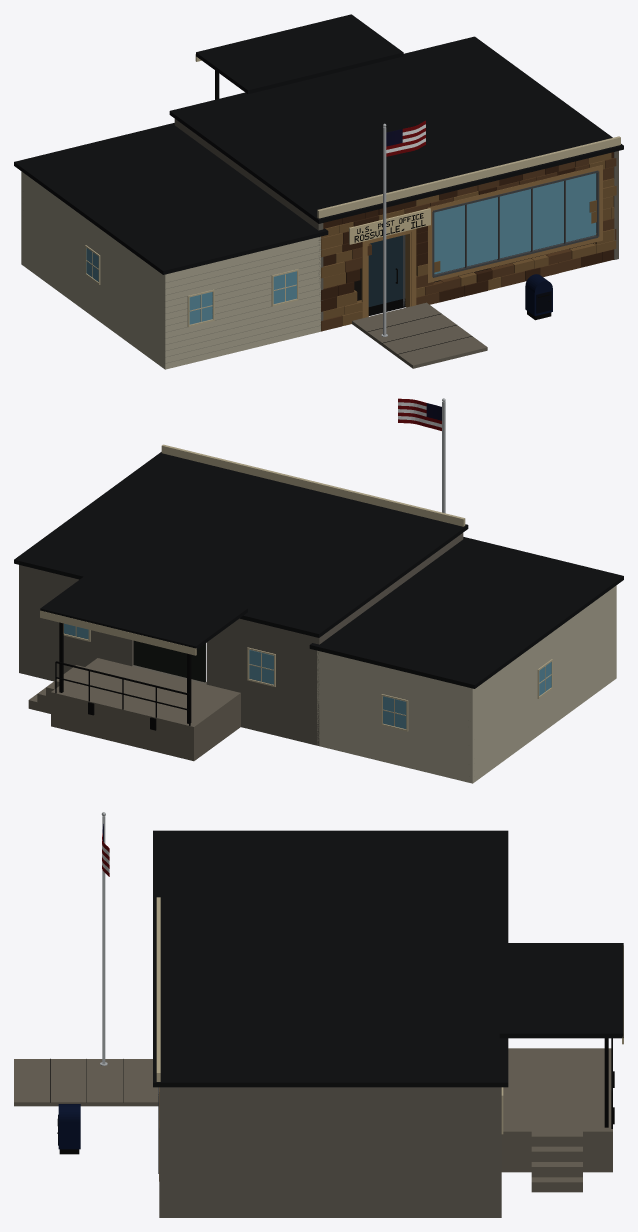
The model's file is RossvillePostOffice.obj.
The picture shows the model from 3 angles, top to bottom: view 1: azimuth 30°, elevation 25°; view 2: azimuth 150°, elevation 25°; view 3: azimuth 270°, elevation 25°; orthographic projection. The views are drawn at different scales.
Visible parts, largest first — view 1: RossvillePostOffice; view 2: RossvillePostOffice; view 3: RossvillePostOffice.
Part boxes in pixels (x1=…): RossvillePostOffice: x1=14, y1=14, x2=623, y2=369; RossvillePostOffice: x1=14, y1=398, x2=623, y2=783; RossvillePostOffice: x1=14, y1=812, x2=623, y2=1217.
Size of the model in its own units: 14.8 by 6.6 by 14.26.
